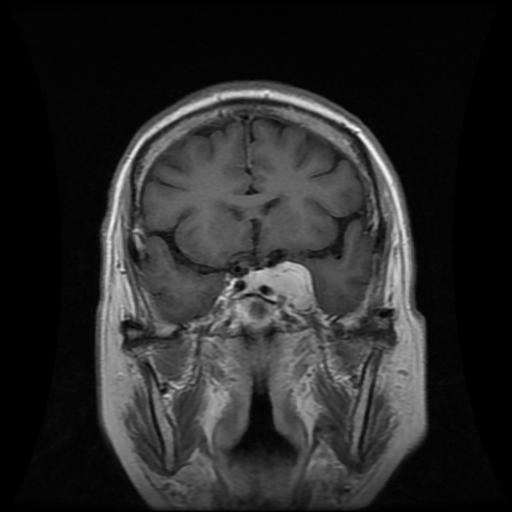Menigiomia_tumour: (222, 262, 315, 311)
